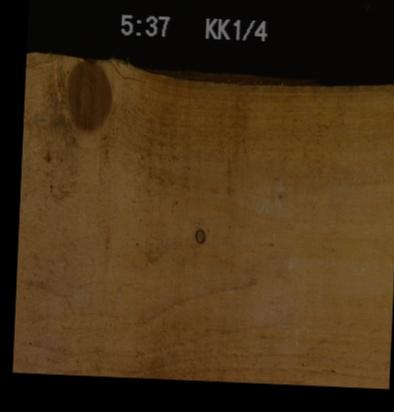dry_knot: (193, 227, 205, 244)
edge_knot: (64, 59, 112, 133)
wave: (143, 72, 317, 84)
